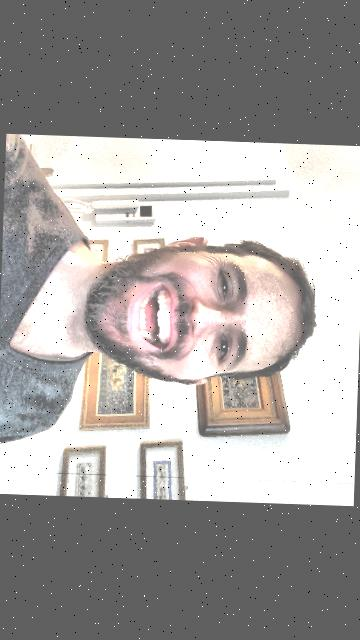happy: (77, 222, 327, 399)
